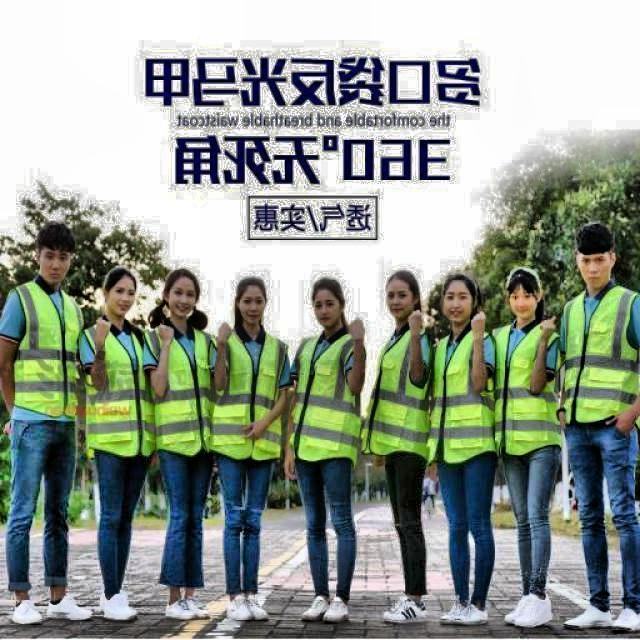safety_jacket: (90, 326, 148, 452), (574, 302, 638, 415), (223, 334, 278, 458), (304, 344, 364, 454), (504, 330, 560, 444), (438, 338, 489, 460), (26, 290, 77, 410), (162, 336, 212, 456), (379, 334, 424, 451)
